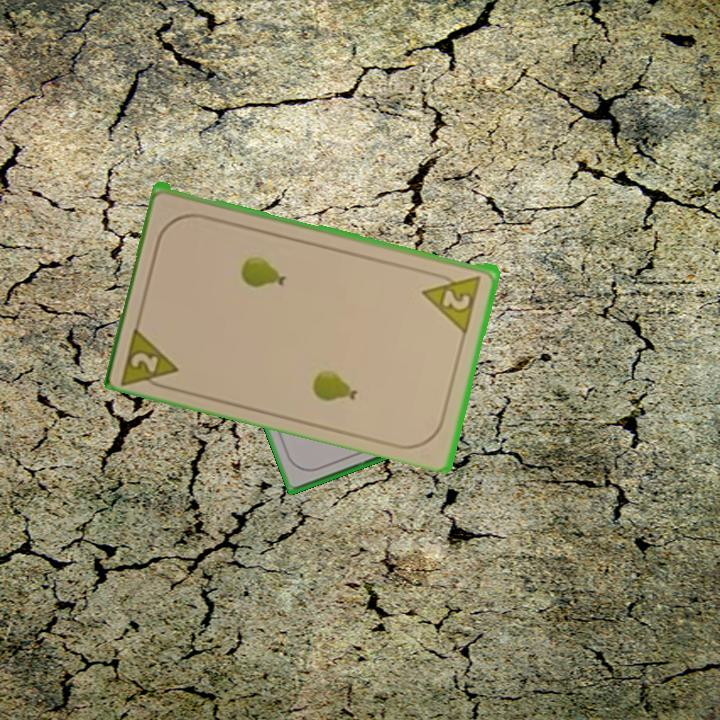2p: (118, 320, 183, 394), (419, 269, 485, 334)
